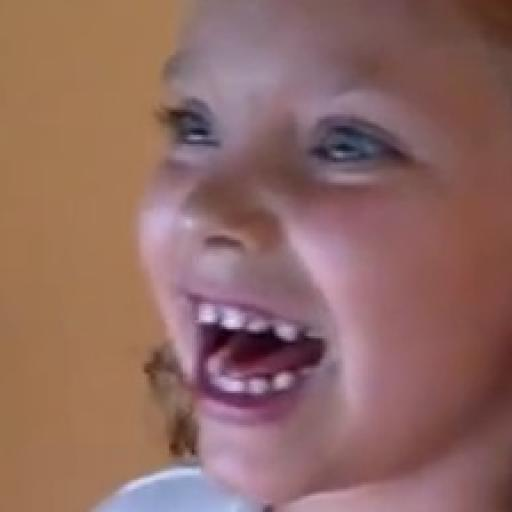Autism: (87, 18, 512, 512)
